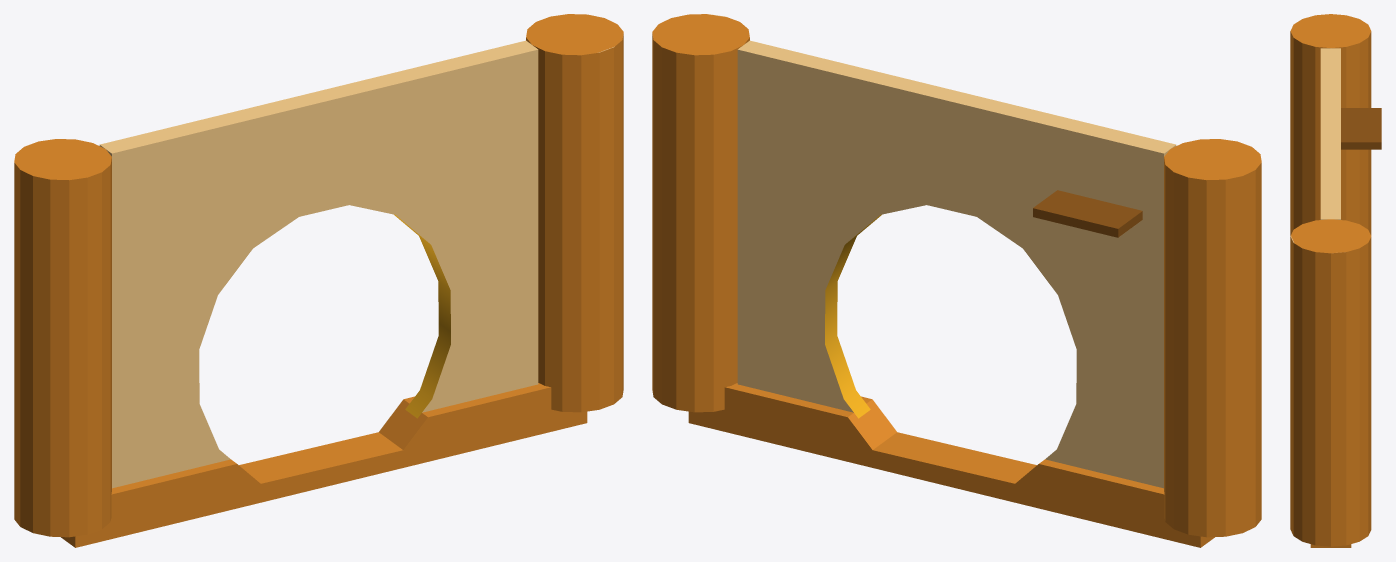
The model's file is Wall_Back.obj.
The picture shows the model from 3 angles, left to right: view 1: azimuth 30°, elevation 25°; view 2: azimuth 150°, elevation 25°; view 3: azimuth 270°, elevation 25°; orthographic projection. The views are drawn at different scales.
Visible parts, largest first — view 1: 壁.002, 支柱.001, 支柱, 幅木.002; view 2: 壁.002, 支柱.001, 支柱, 幅木.002, 棚.002; view 3: 支柱, 支柱.001, 壁.002, 棚.002.
Boxes of the visible parts, x1,y1,x2,y2 form: 壁.002: (99,40,538,488); 支柱.001: (14,139,111,537); 支柱: (526,14,623,412); 幅木.002: (61,383,587,547); 壁.002: (737,40,1176,488); 支柱.001: (1164,139,1261,537); 支柱: (652,14,749,412); 幅木.002: (688,383,1214,547); 棚.002: (1033,190,1142,237); 支柱: (1290,219,1371,546); 支柱.001: (1290,14,1371,235); 壁.002: (1320,48,1340,219); 棚.002: (1341,108,1381,149).
Bounding box in the file's own units: 4.67 × 2.84 × 0.7506.
